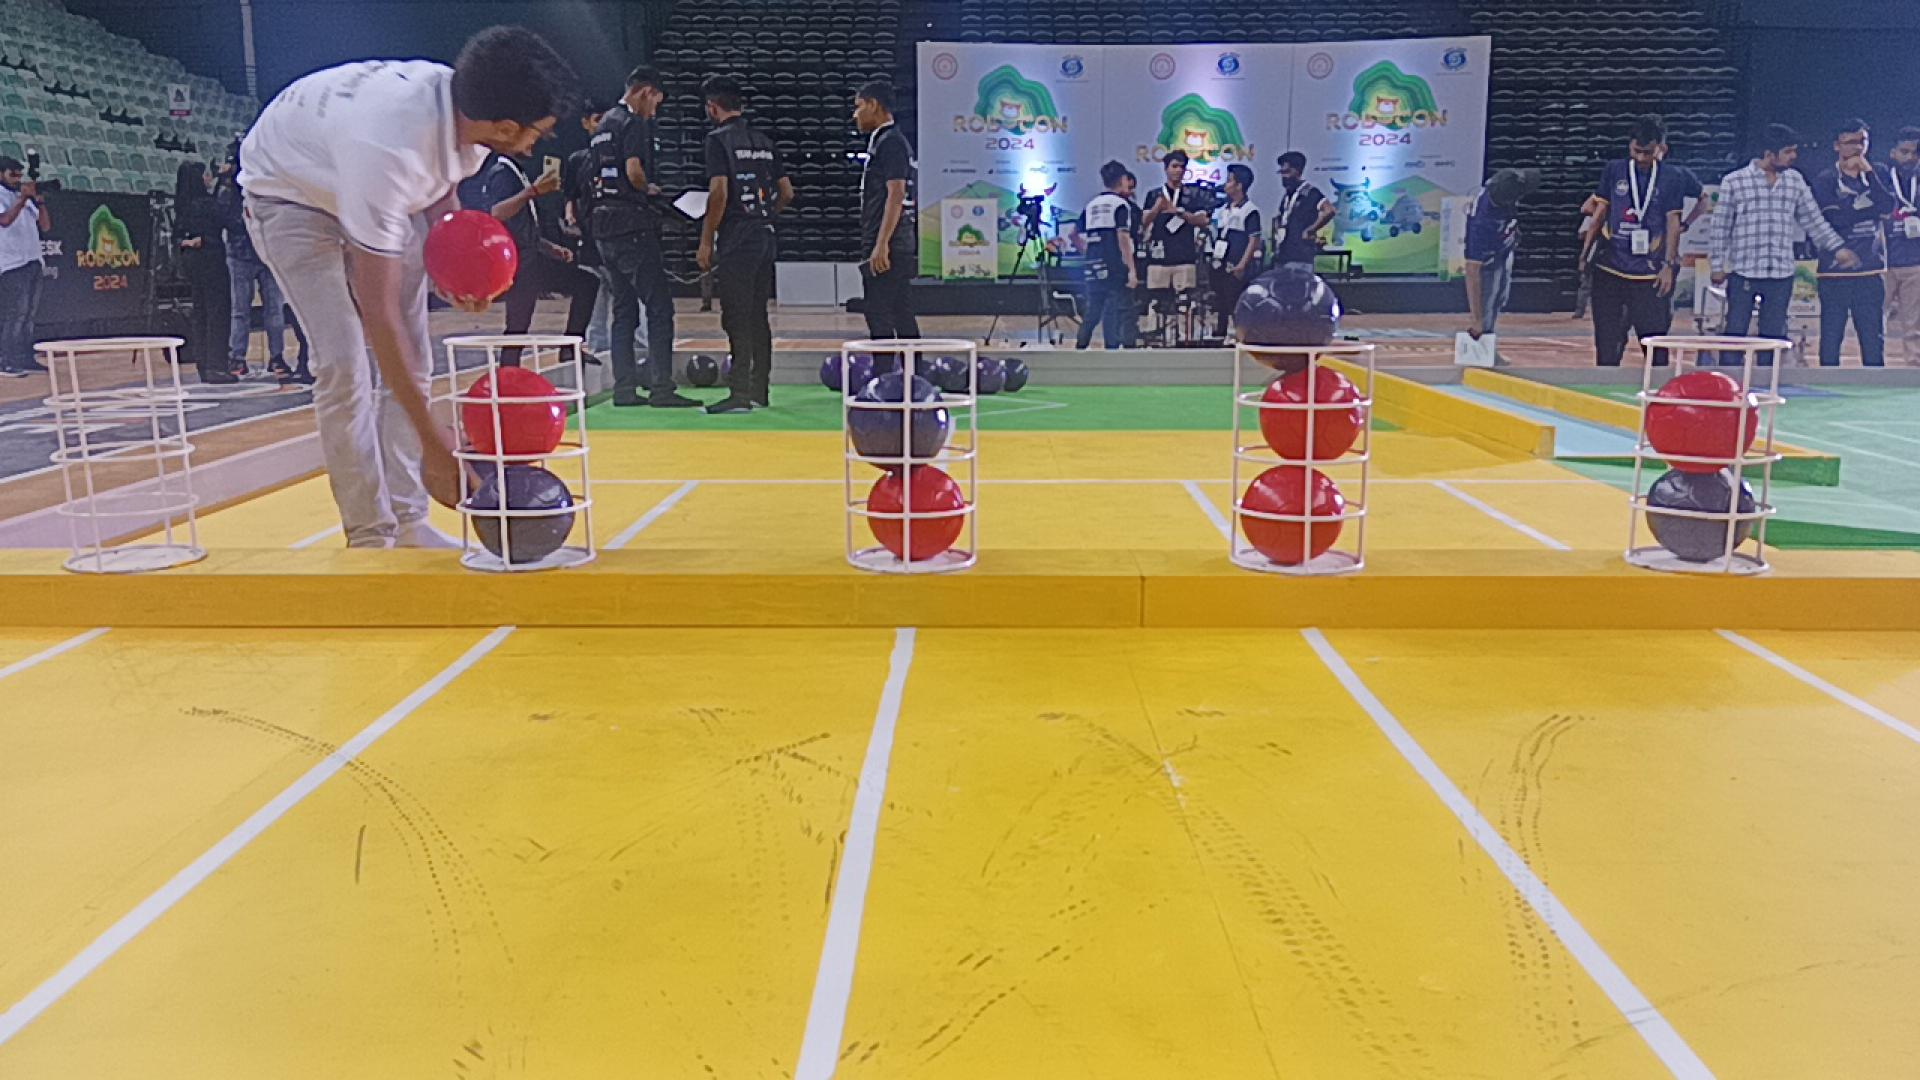dhoka: (1234, 262, 1338, 373), (465, 465, 574, 566), (1646, 468, 1755, 563), (848, 372, 952, 468)
laale: (1643, 372, 1759, 472), (1241, 465, 1346, 564), (1261, 368, 1365, 462), (866, 465, 968, 560), (465, 368, 566, 458)
